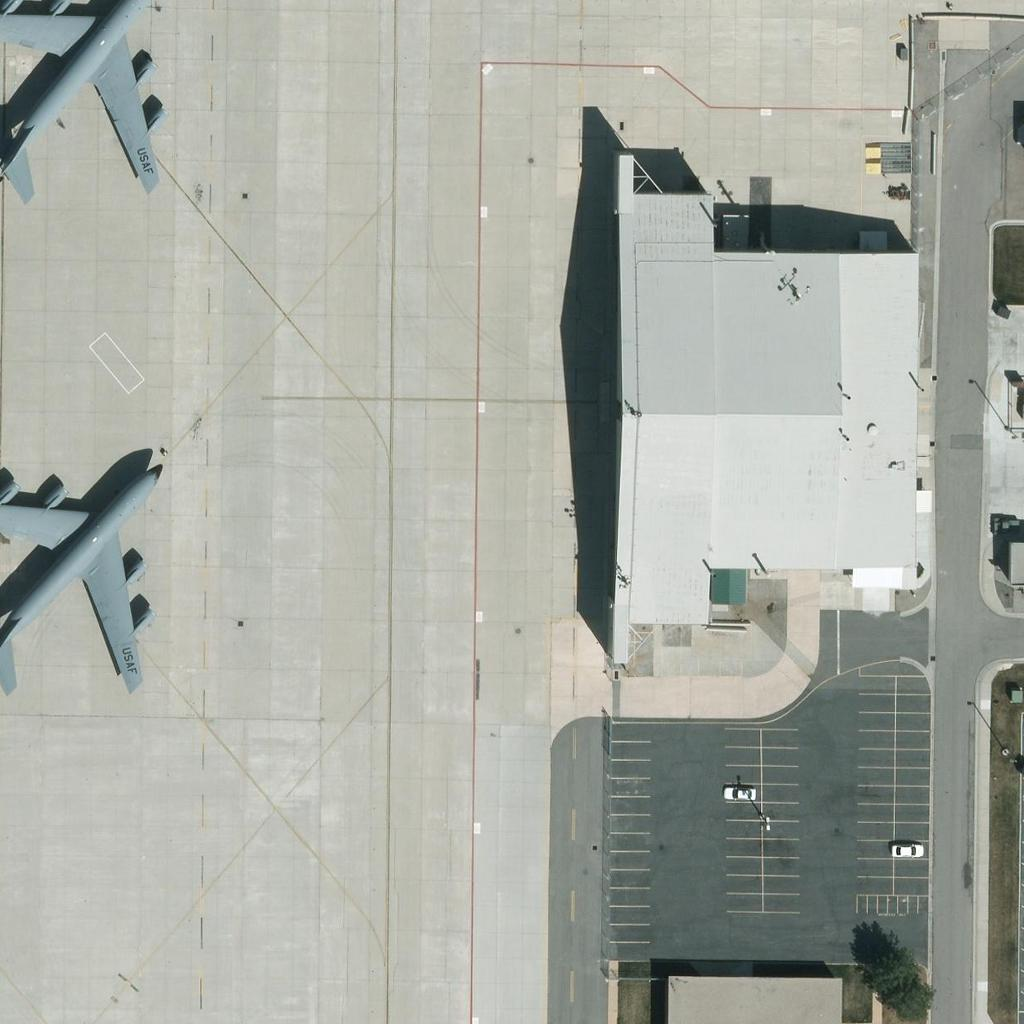car: (724, 775, 758, 809), (888, 834, 922, 868)
